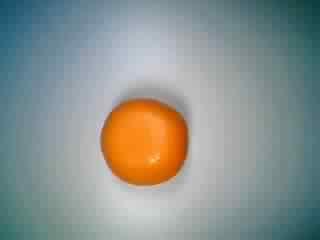orange: (90, 96, 191, 193)
